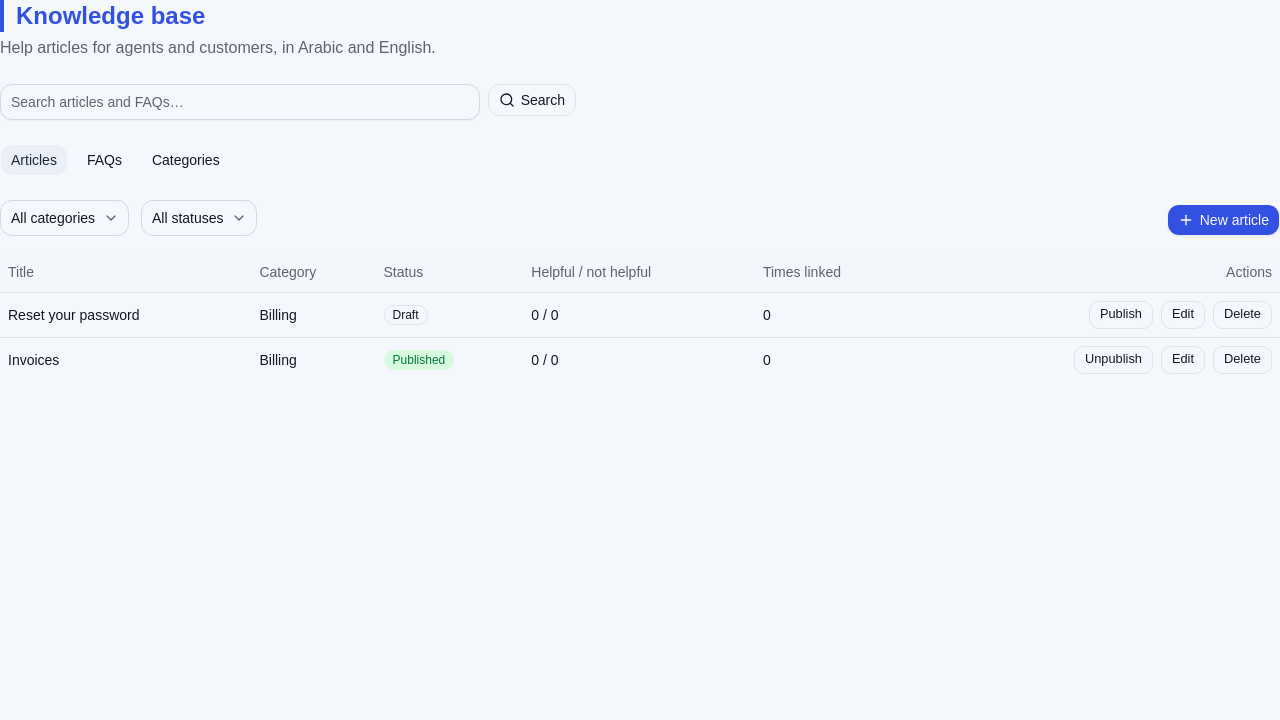
Scenario: KnowledgeBasePage › shows the server field error of a 400 next to the field
Click the button "New article" at {"x": 1223, "y": 220}, box [1167,204,1279,236]
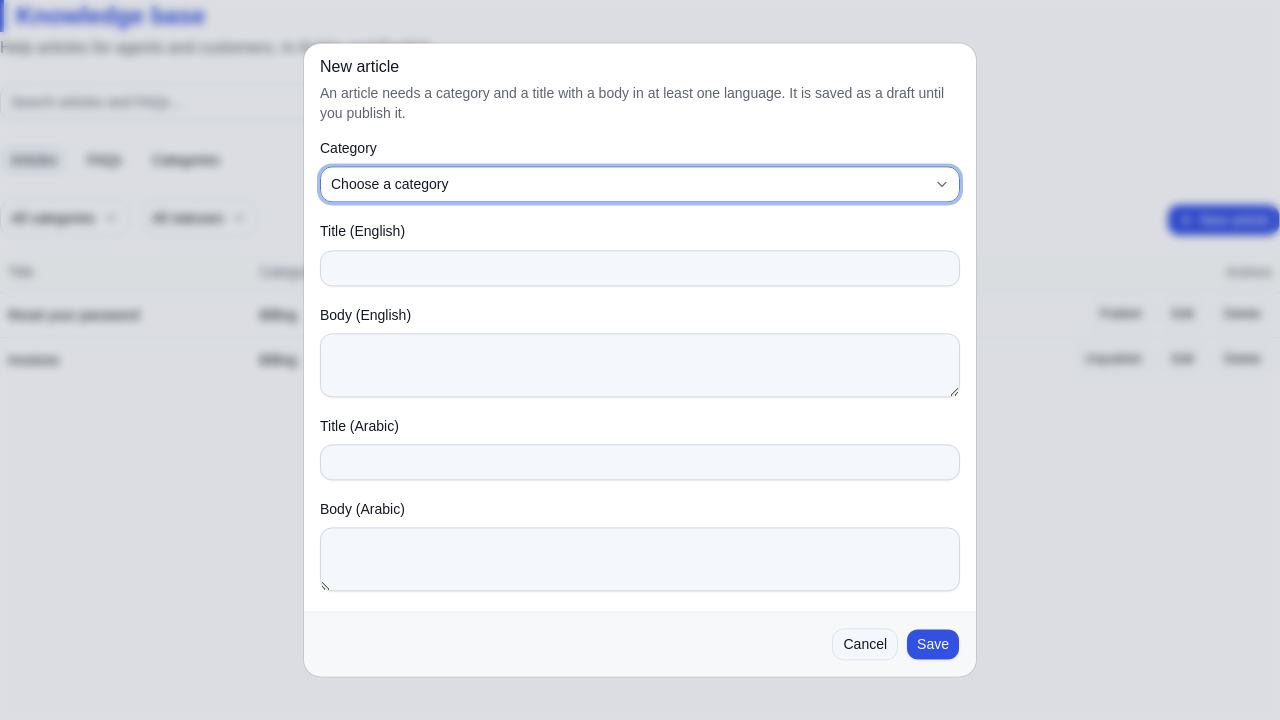
Select "Billing" in the dropdown labelled "Category" at {"x": 640, "y": 185}, box [320,167,960,203]
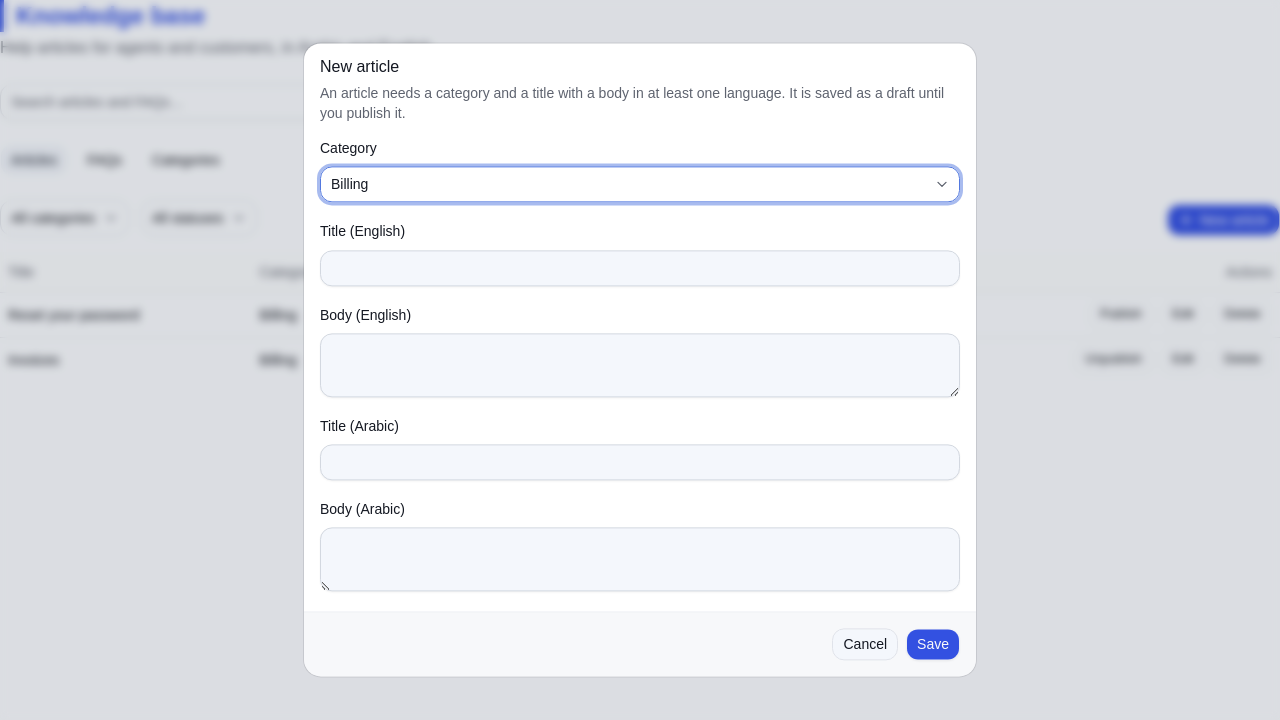
Type "T" into the field labelled "Title (English)" at {"x": 640, "y": 268}, box [320,250,960,286]
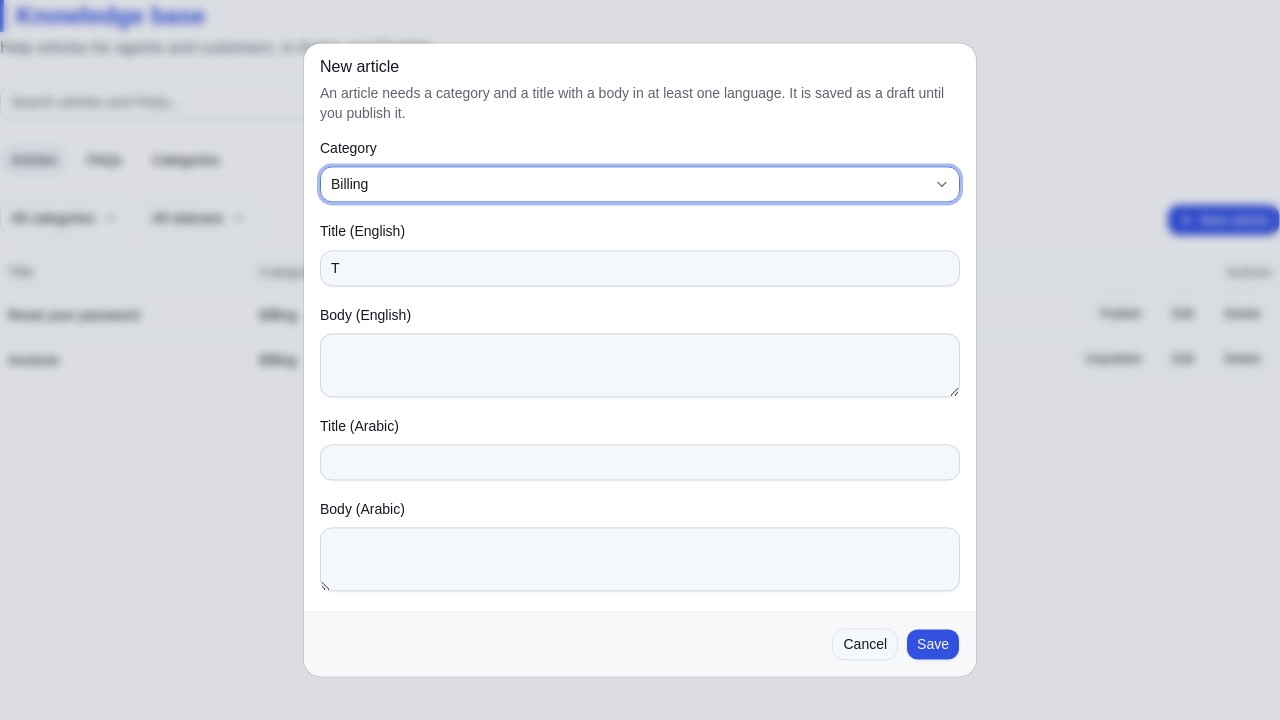
Type "B" into the text box labelled "Body (English)" at {"x": 640, "y": 365}, box [320,333,960,397]
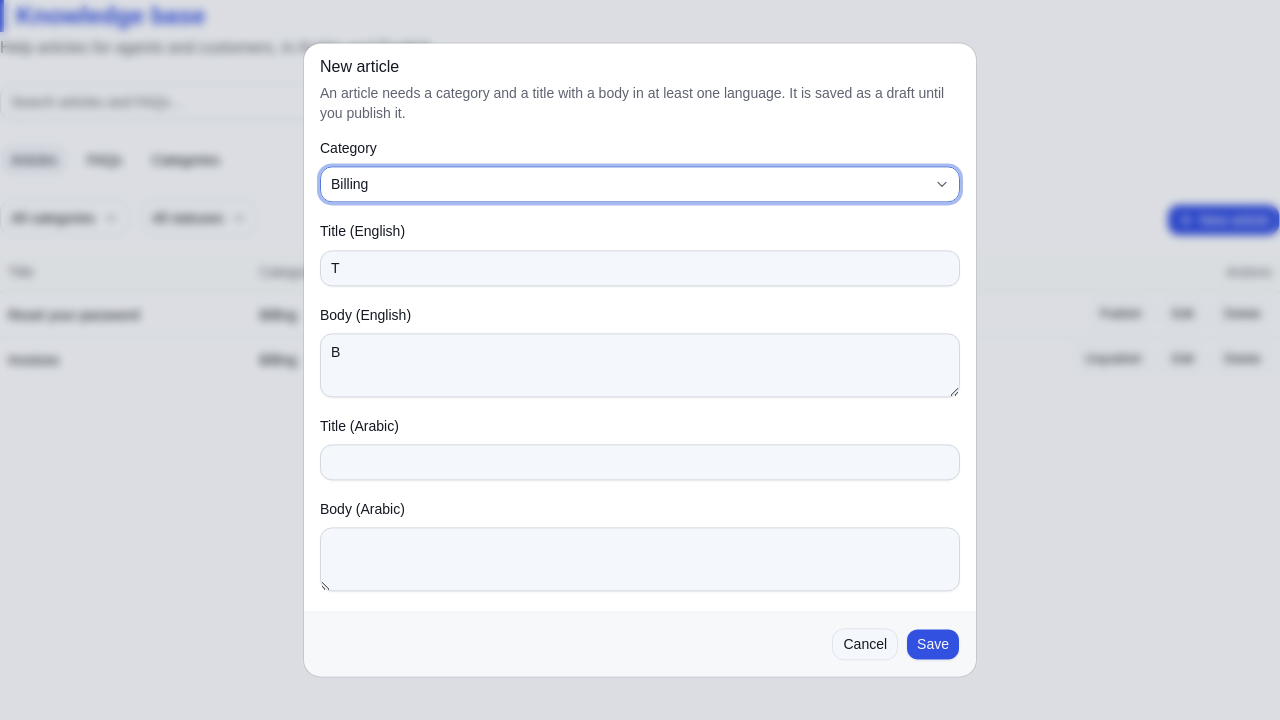
Click the button "Save" at {"x": 933, "y": 645}, box [906,629,960,661]
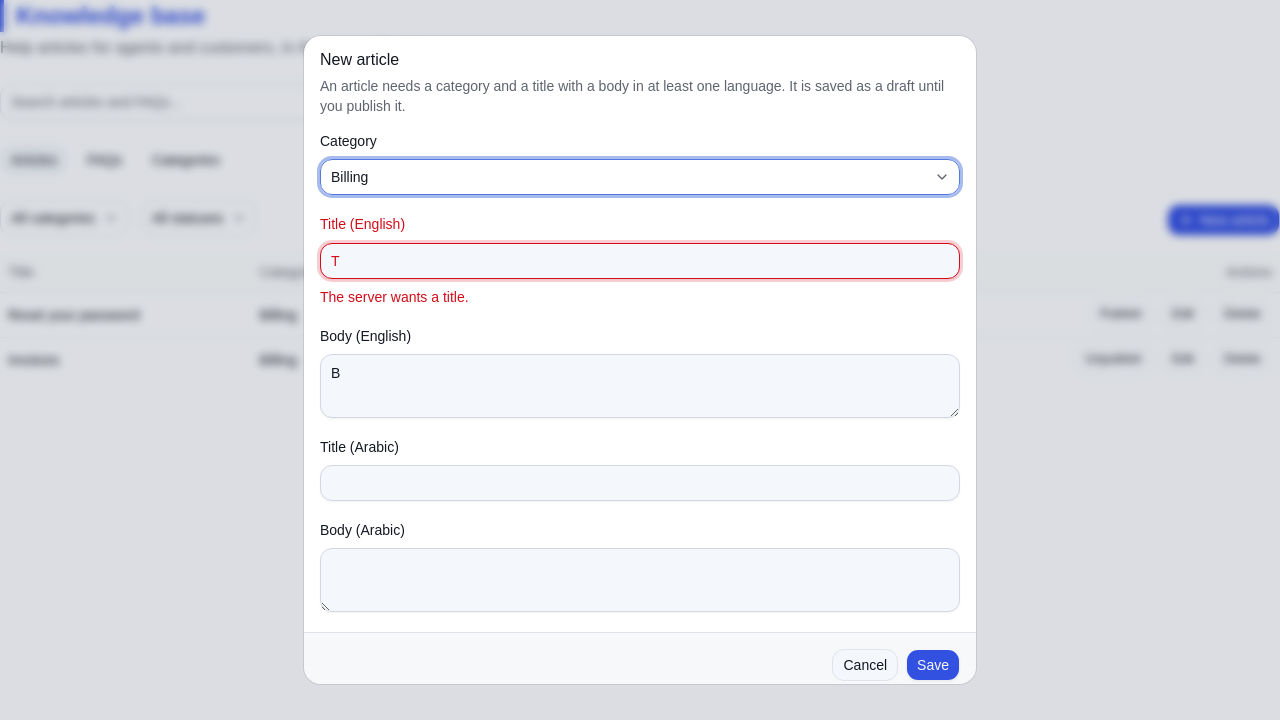
Expected: the text "The server wants a title." is shown, [320,288,469,304]
